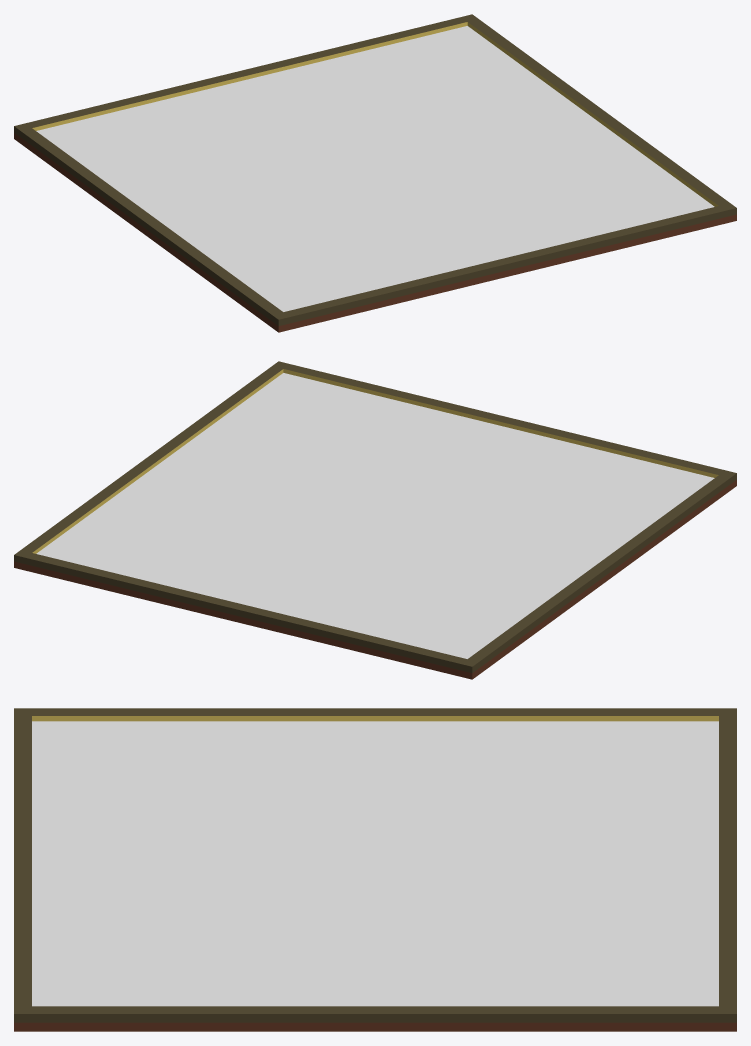
File: WoodPanel.fbx
The picture shows the model from 3 angles, top to bottom: view 1: azimuth 30°, elevation 25°; view 2: azimuth 150°, elevation 25°; view 3: azimuth 270°, elevation 25°; orthographic projection. The views are drawn at different scales.
Visible parts, largest first — view 1: Cube.001, Cube.002; view 2: Cube.001, Cube.002; view 3: Cube.001, Cube.002.
Part boxes in pixels (x1,y1,x2,y2): Cube.001: (14, 14, 736, 326); Cube.002: (14, 133, 736, 332); Cube.001: (14, 361, 736, 673); Cube.002: (14, 480, 736, 679); Cube.001: (14, 708, 736, 1022); Cube.002: (14, 1022, 736, 1031).
Size of the model in its own units: 400 by 10.74 by 400.
